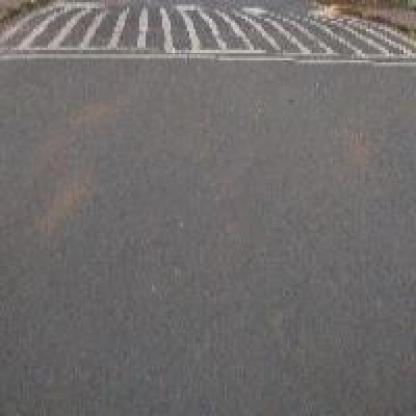Speed Bump: (0, 4, 377, 59)
